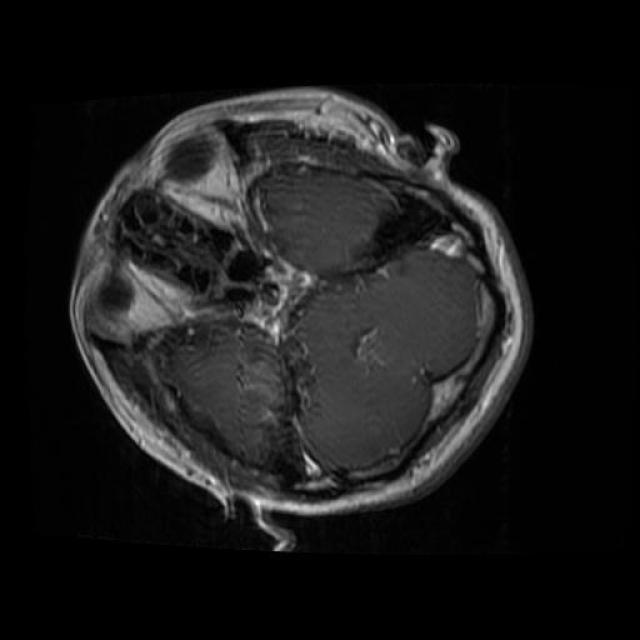Glioma: (337, 170, 453, 274)
